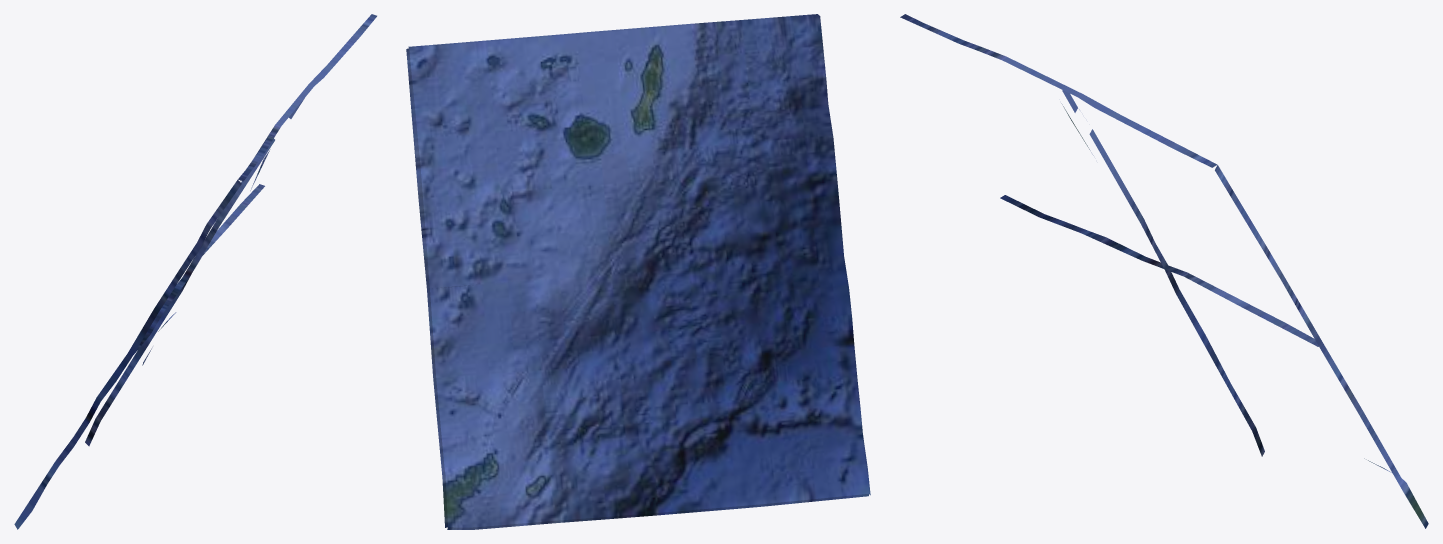
3 renders of one model, left to right at view 1: azimuth 30°, elevation 25°; view 2: azimuth 150°, elevation 25°; view 3: azimuth 270°, elevation 25°, orthographic. The views are drawn at different scales.
Bounding box in the file's own units: 310433 × 278127 × 300595.
Materials: 1 (1 with a texture image).
